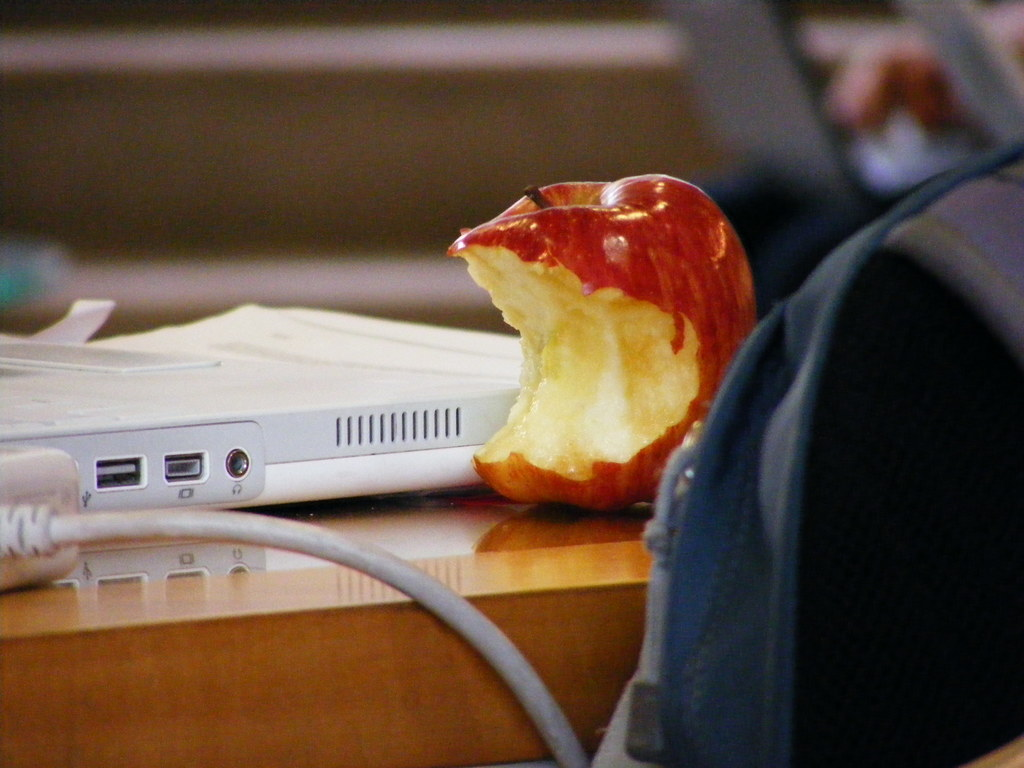Apple: (443, 169, 765, 513)
